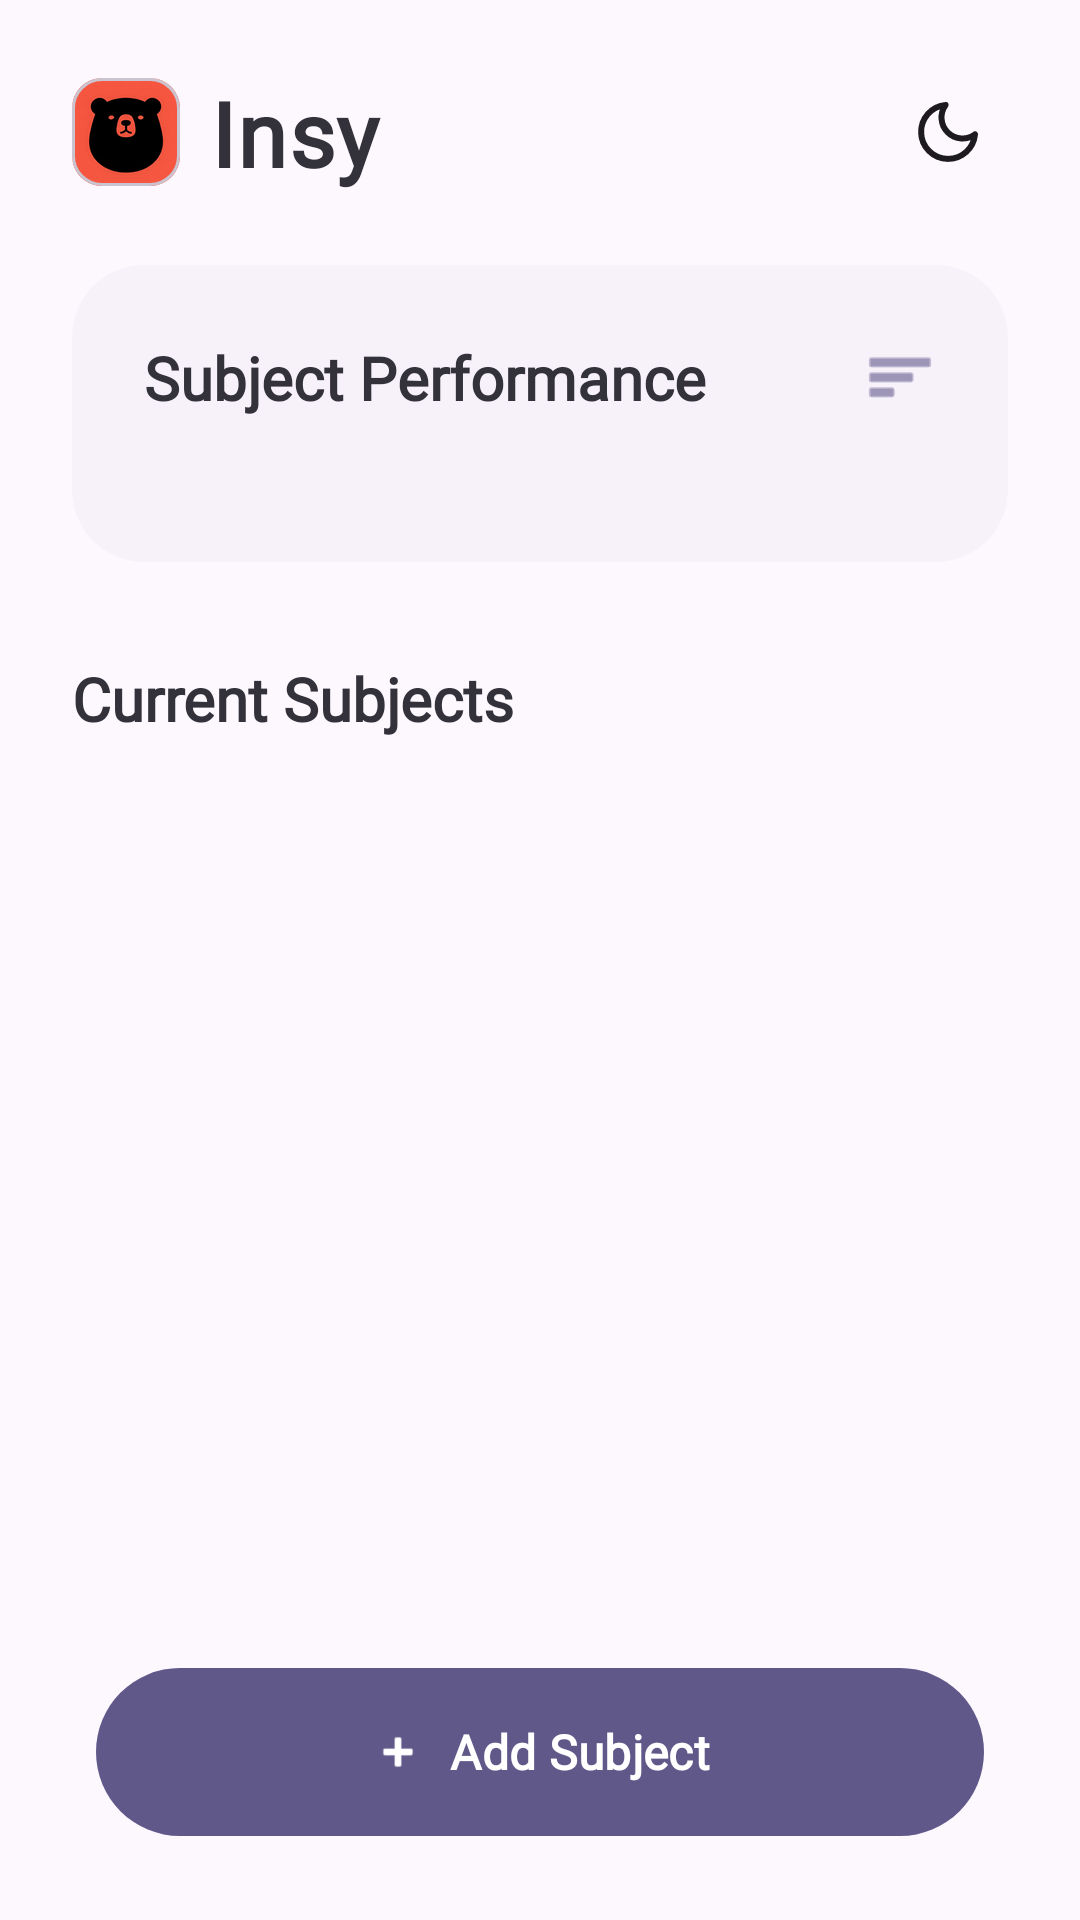

Icon click points for this 1080px×1920px phone screenshot, format [x,y]:
moon: [948,132]
sort by size: [900,377]
